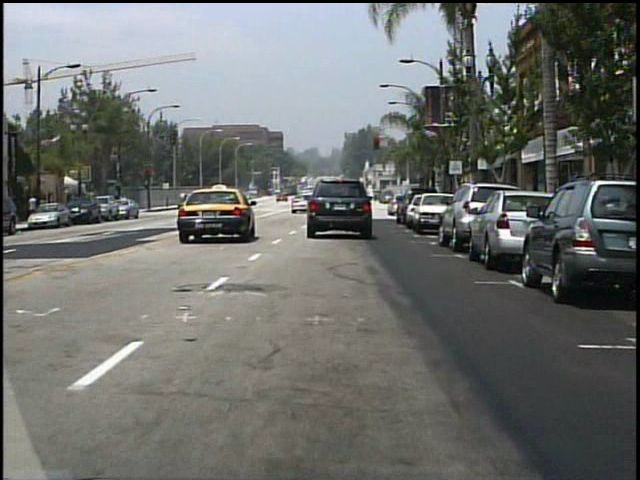person: (29, 192, 41, 223), (237, 189, 250, 212), (330, 190, 343, 213)
